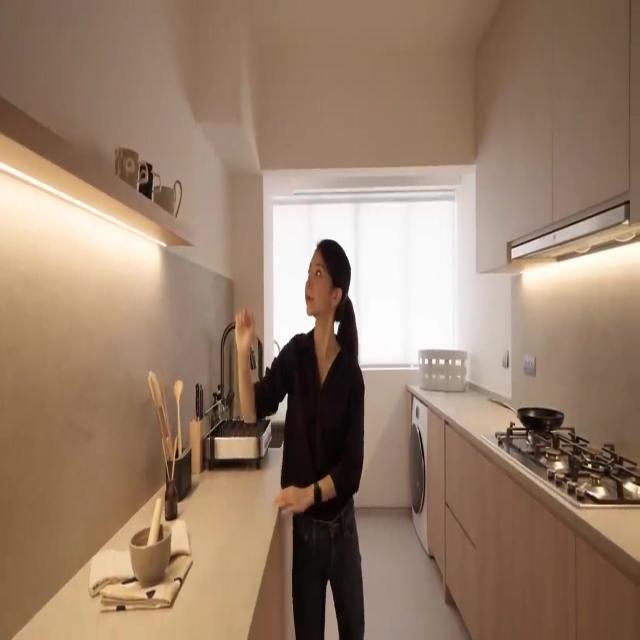obstacle: (12, 440, 296, 639), (474, 0, 640, 275)
person: (234, 238, 366, 639)
